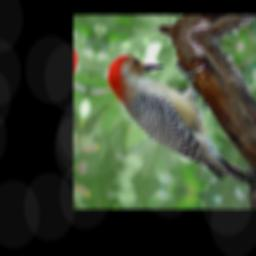Woodpecker: (89, 42, 256, 190)
